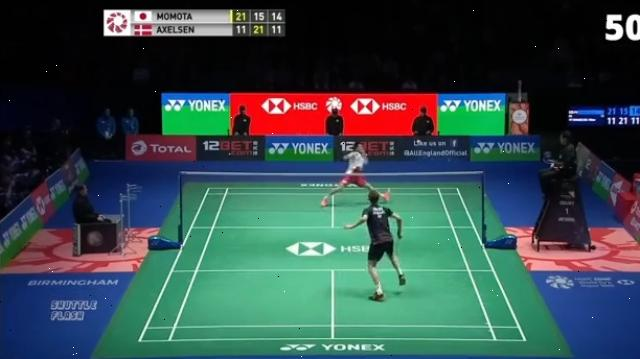Shuttlecock: (415, 140, 421, 144)
